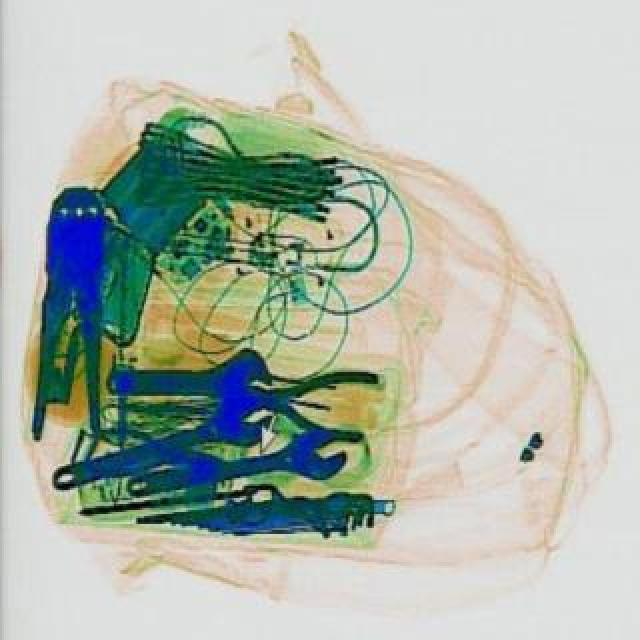scissors: (38, 388, 278, 512), (120, 428, 348, 516), (104, 350, 272, 418)
wrench: (30, 190, 106, 448), (228, 366, 376, 446)
